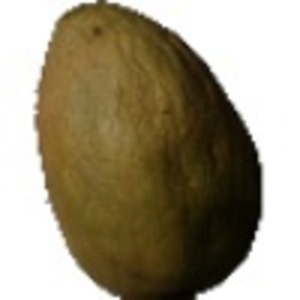mamão: (28, 3, 271, 297)
